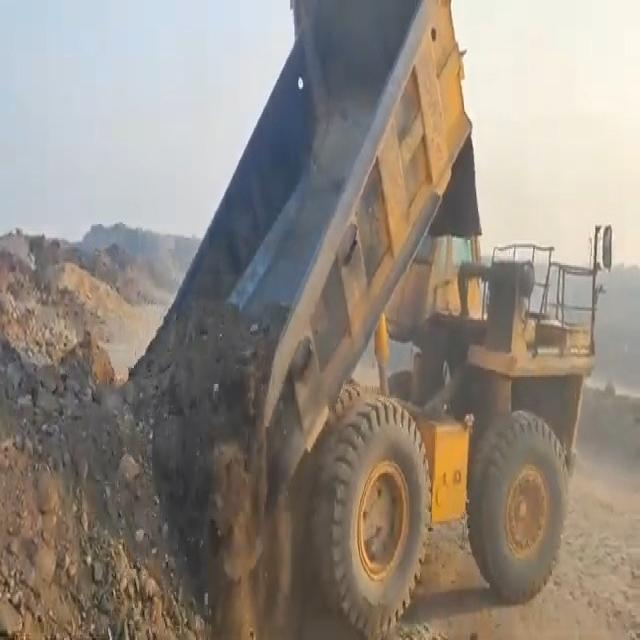dump_truck: (185, 8, 610, 616)
